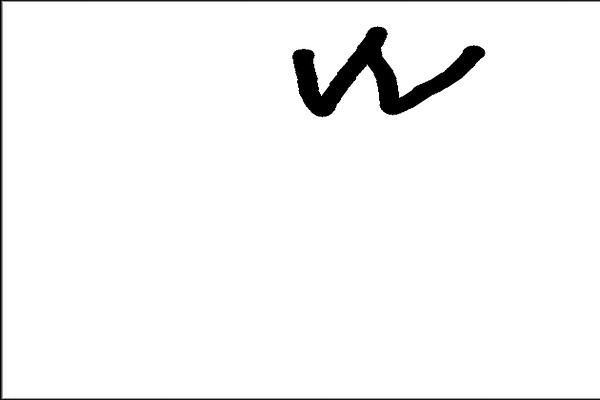w: (271, 13, 490, 130)
